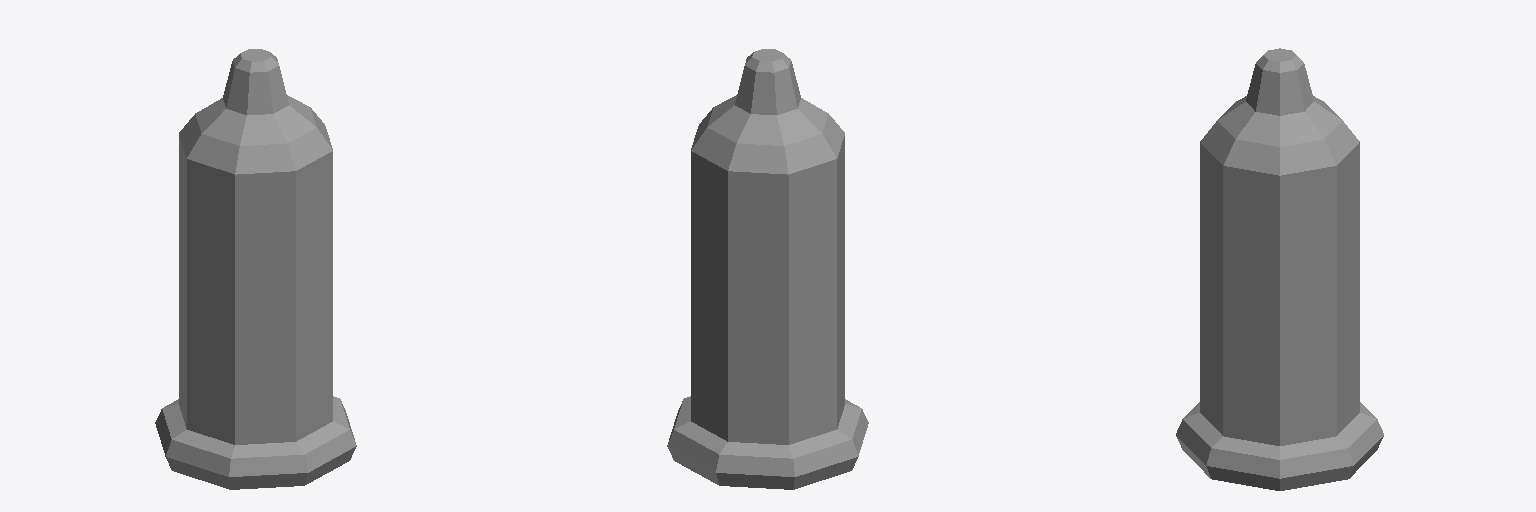
Rendered from condon.obj.
3 renders of one model, left to right at view 1: azimuth 30°, elevation 25°; view 2: azimuth 150°, elevation 25°; view 3: azimuth 270°, elevation 25°, orthographic.
Parts seen in each view (by area): view 1: Torus; view 2: Torus; view 3: Torus.
Part boxes in pixels (x1,y1,x2,y2): Torus: (155,49,356,489); Torus: (667,49,868,489); Torus: (1176,48,1383,490).
Bounding box in the file's own units: 2.14 × 4.54 × 2.14.